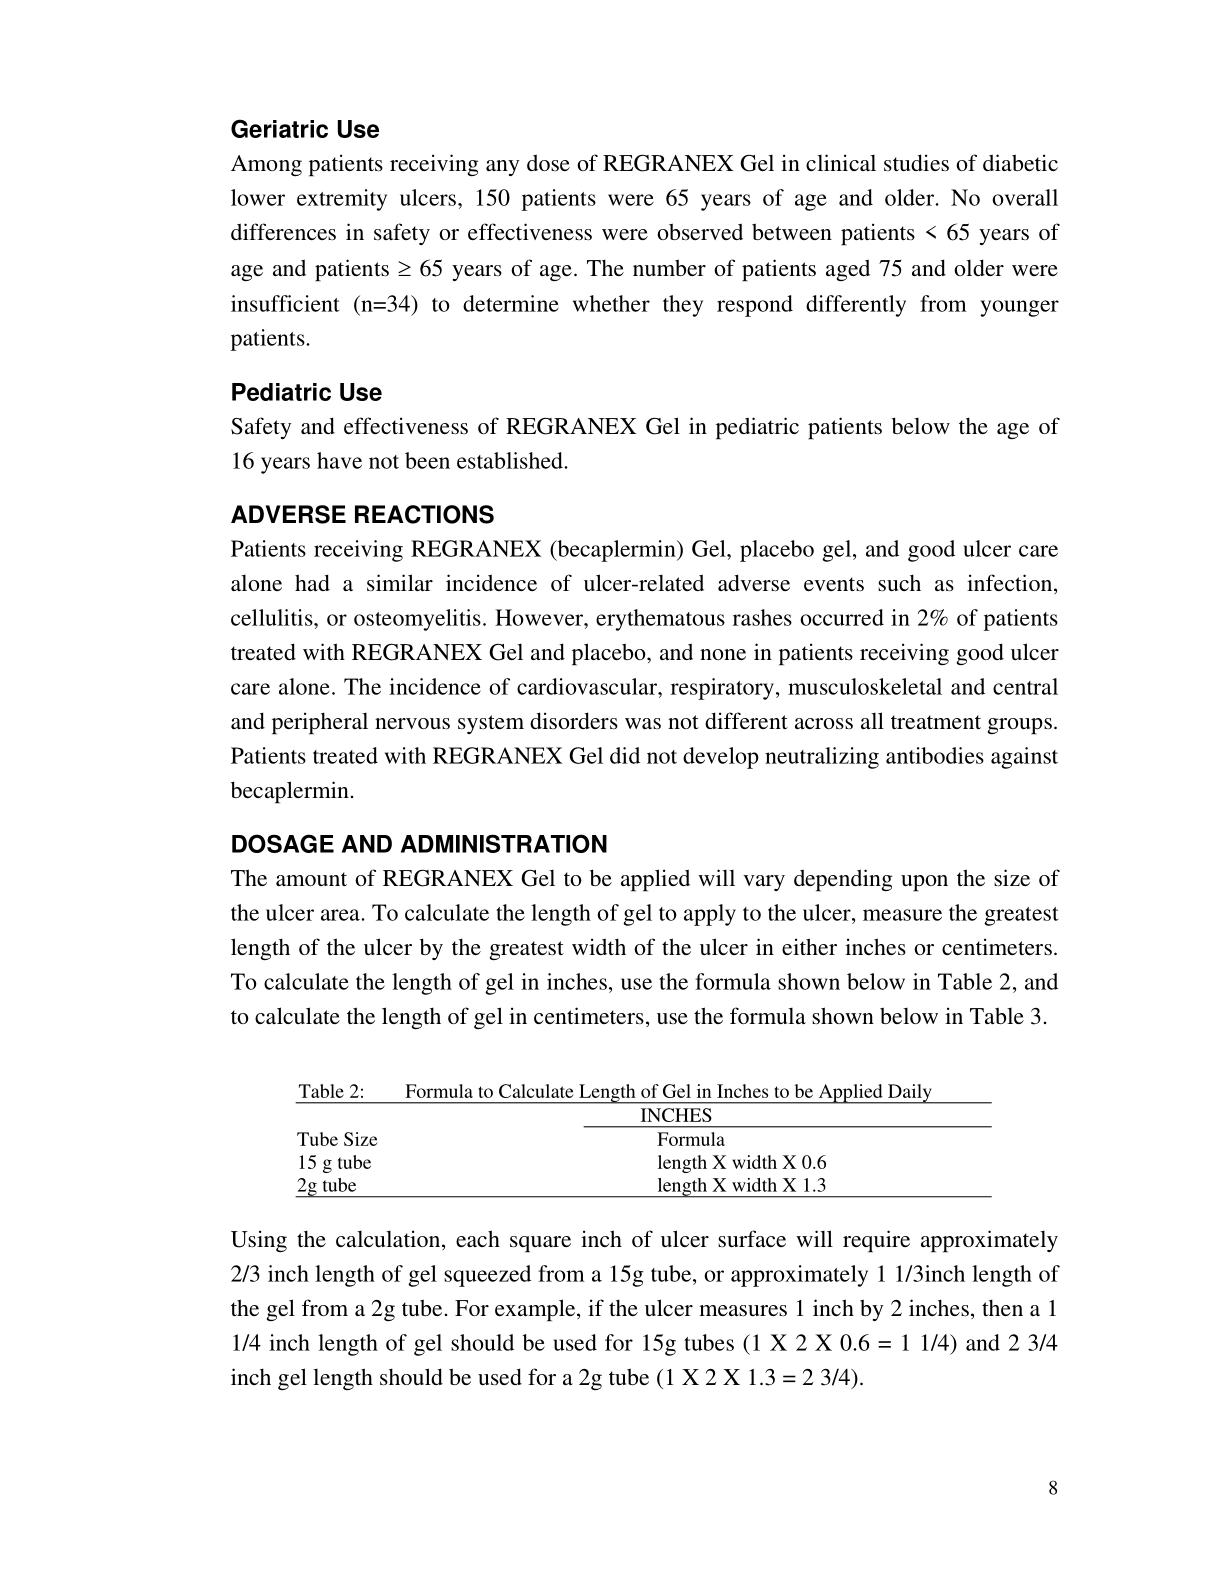partial_lined: (292, 1101, 994, 1200)
